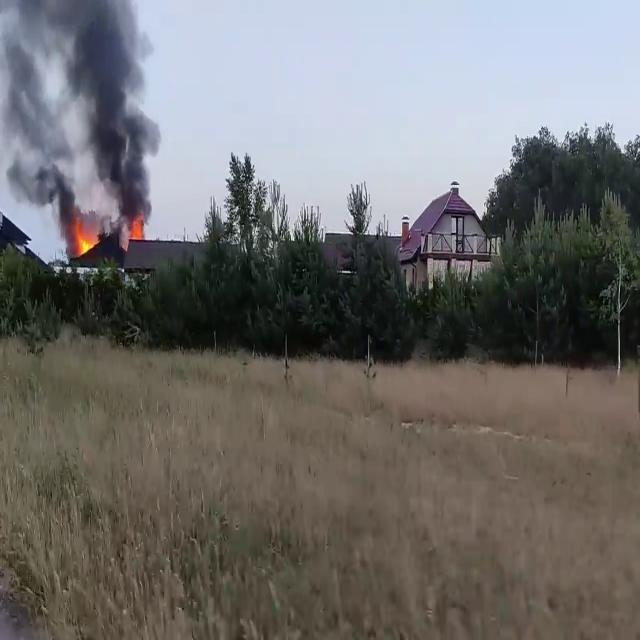Fire: (72, 220, 100, 260), (126, 211, 148, 246)
Smoke: (0, 0, 158, 225)
